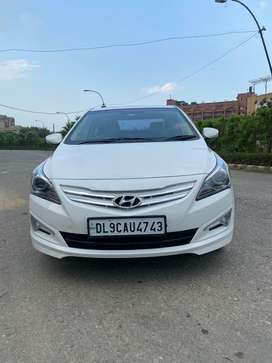DL9CAU4743: (89, 217, 165, 235)
